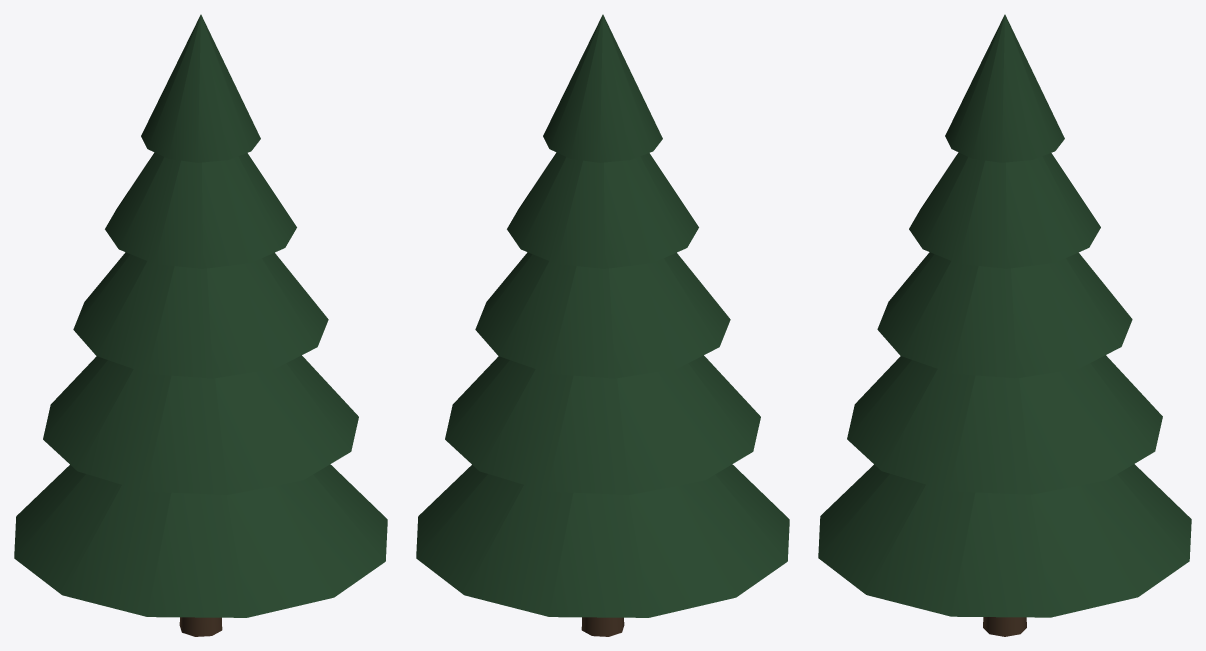
Rendered from pine.glb.
The picture shows the model from 3 angles, left to right: view 1: azimuth 30°, elevation 25°; view 2: azimuth 150°, elevation 25°; view 3: azimuth 270°, elevation 25°; orthographic projection.
Visible parts, largest first — view 1: pine; view 2: pine; view 3: pine.
Boxes of the visible parts, x1,y1,x2,y2 form: pine: (14, 14, 387, 636); pine: (416, 14, 789, 636); pine: (818, 14, 1191, 636).
Size of the model in its own units: 9.79 by 17.75 by 9.79.
